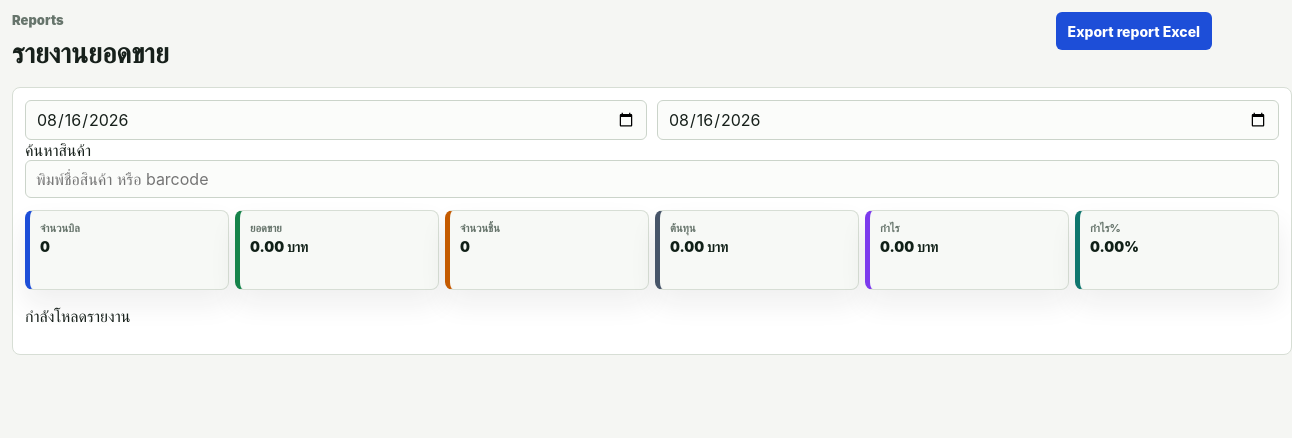
Test: backend connected report pages › filters product rows by barcode in the sales report search
Type "SQL-001" into the dropdown named "ค้นหาสินค้าในรายงาน" at (652,179), box 25,160 -> 1279,198
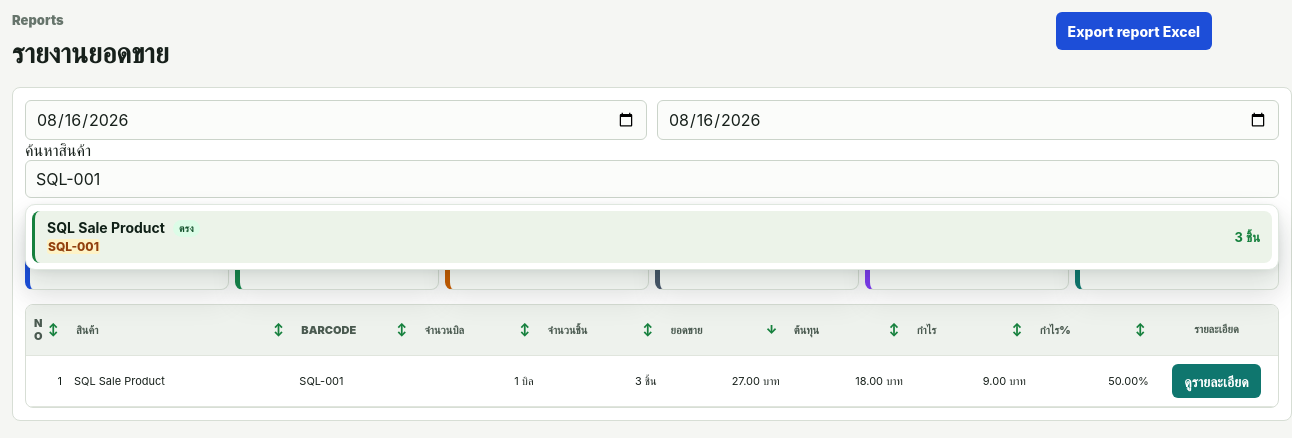
Expected: the text "SQL Sale Product" is shown, 47,219 -> 165,236
